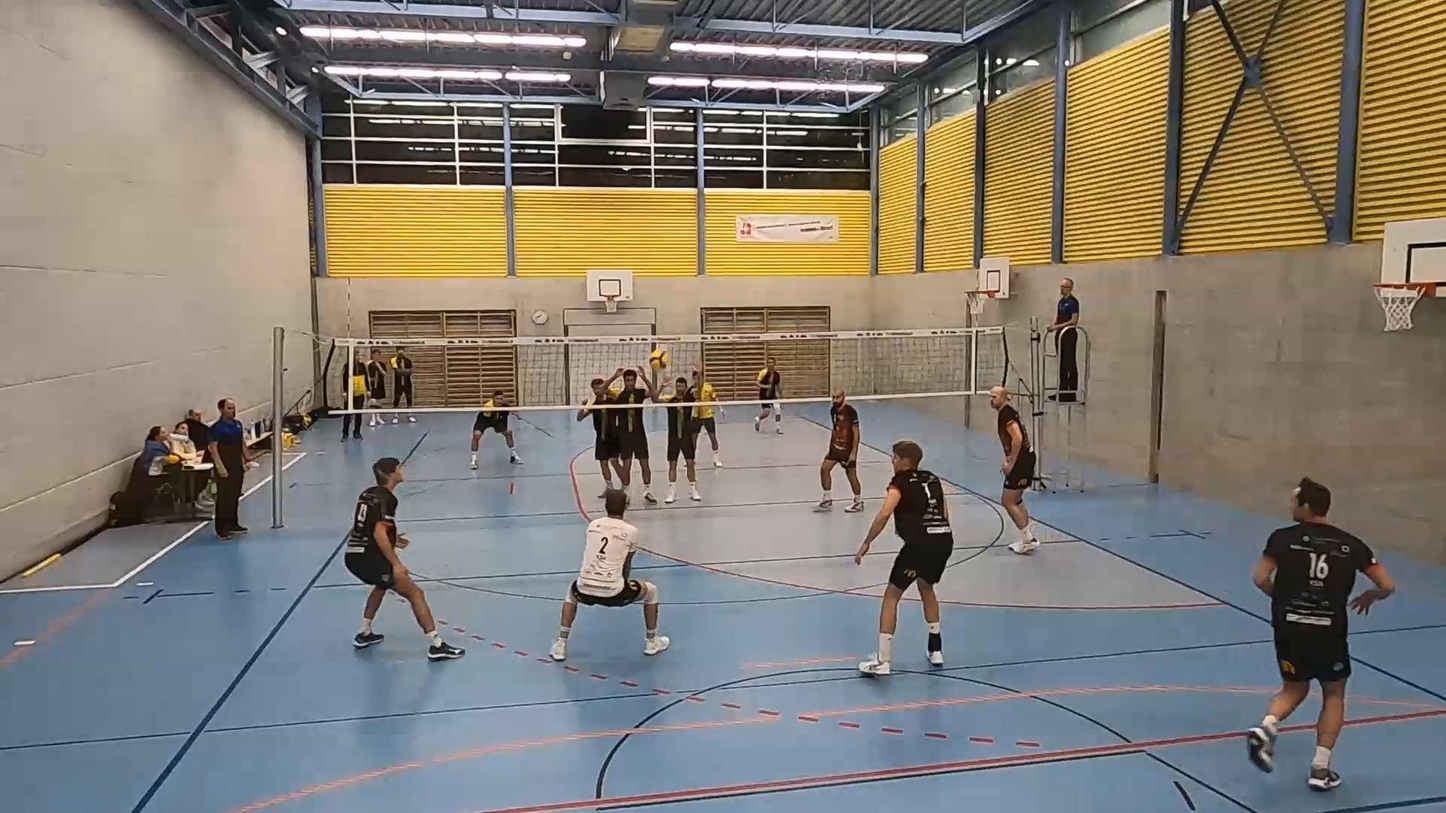Player: (1246, 479, 1394, 790), (344, 457, 464, 659), (855, 440, 951, 675), (990, 386, 1039, 554), (612, 366, 656, 504), (816, 388, 862, 512), (576, 379, 622, 497), (470, 390, 522, 469), (664, 407, 700, 504), (692, 367, 721, 467), (755, 357, 782, 433)
Receive: (548, 491, 676, 662)
ball: (649, 350, 671, 367)
